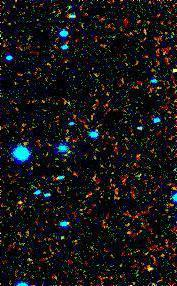star: (132, 254, 162, 284)
